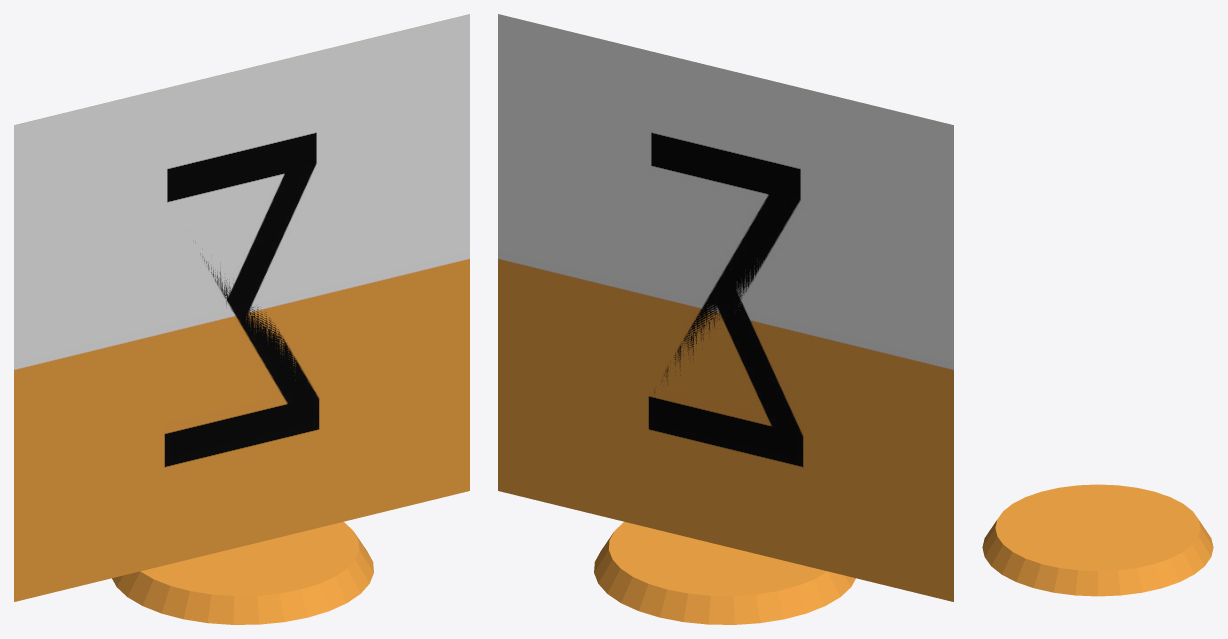
3 renders of one model, left to right at view 1: azimuth 30°, elevation 25°; view 2: azimuth 150°, elevation 25°; view 3: azimuth 270°, elevation 25°, orthographic. The views are drawn at different scales.
Visible parts, largest first — view 1: face.001_face.002, face, base25m; view 2: face.001_face.002, face, base25m; view 3: base25m.
Boxes of the visible parts, <box> form: face.001_face.002: <box>14,119,469,601</box>; face: <box>14,14,469,493</box>; base25m: <box>112,522,373,624</box>; face.001_face.002: <box>498,14,953,499</box>; face: <box>498,121,953,601</box>; base25m: <box>594,522,855,624</box>; base25m: <box>982,484,1213,596</box>.
Bounding box in the file's own units: 1.86 × 1.95 × 0.9344.
